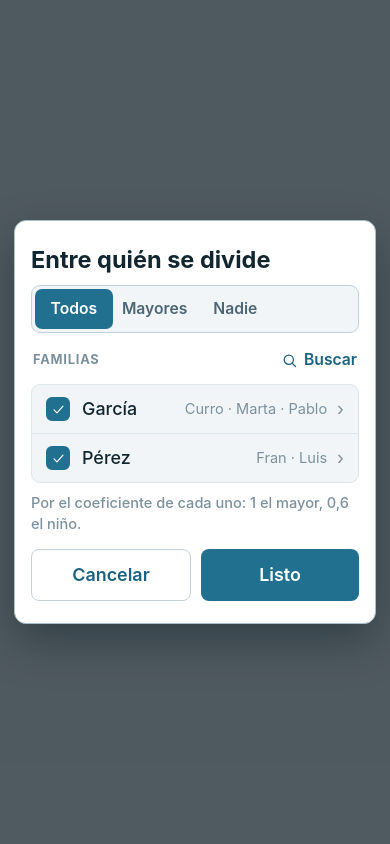
Entre quién se divide · el buscador › no ocupa sitio hasta que se toca la lupa
expect the field labelled "Buscar a alguien" is not shown: met
Click the button "Buscar" at point(319, 361), box x1=279 y1=343 x2=359 y2=378
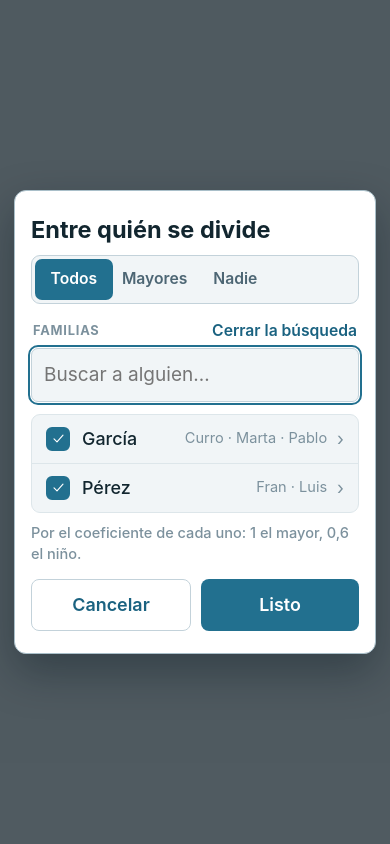
expect the field labelled "Buscar a alguien" is shown: met, box x1=31 y1=348 x2=359 y2=402
